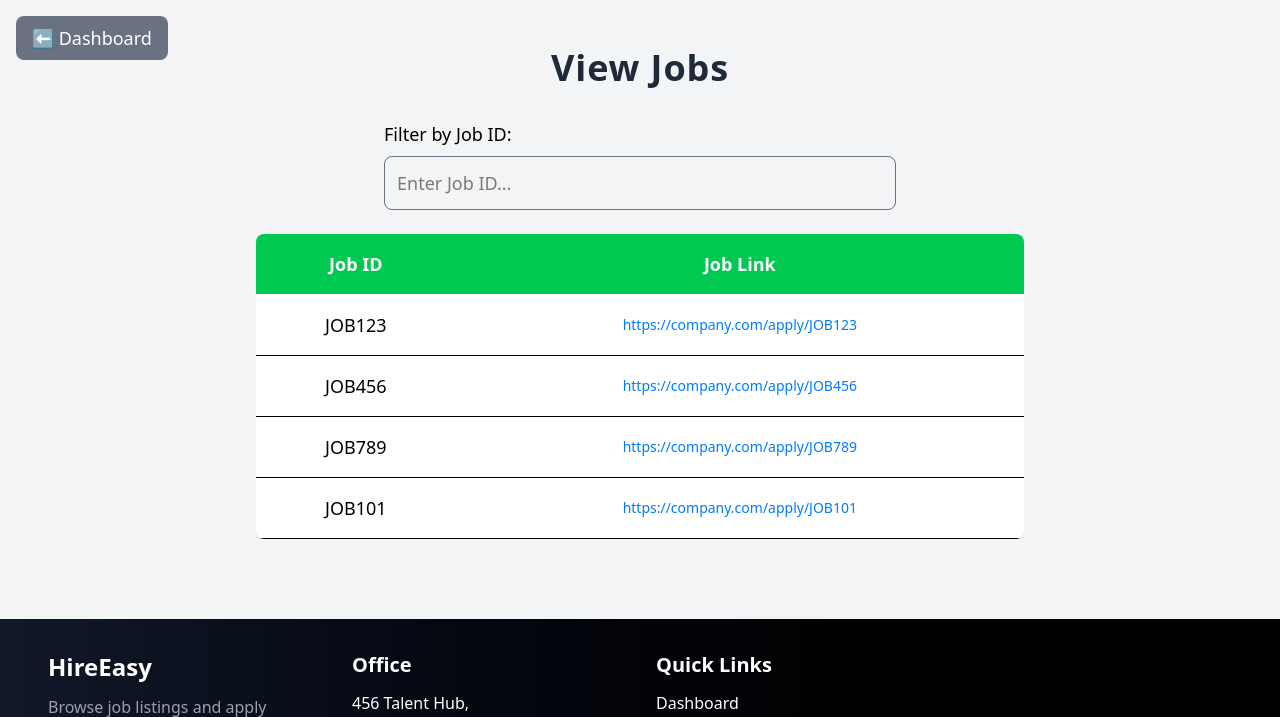
ViewJobs Component › allows filtering jobs
Type "JOB123" into the field with placeholder "Enter Job ID..." at (640, 183), box [384,156,896,210]
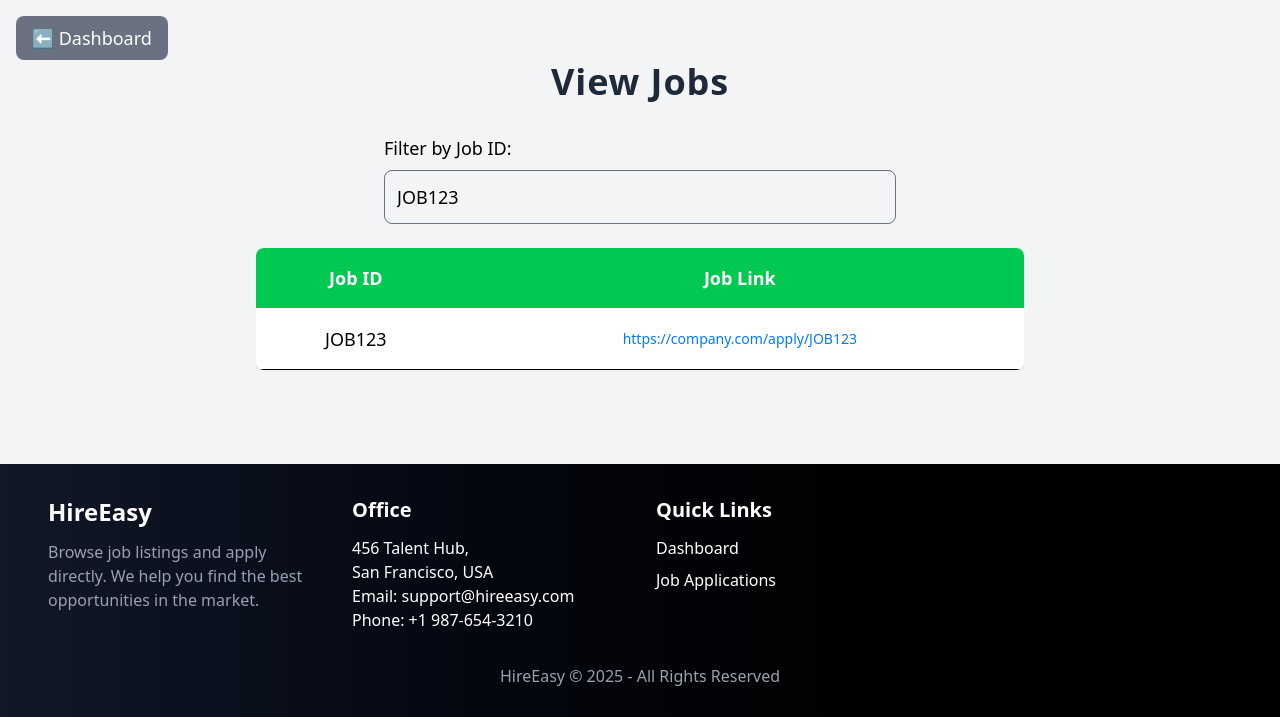
Expected: the text "JOB123" is shown, [256,308,456,370]
Expected: the text "JOB456" is gone
